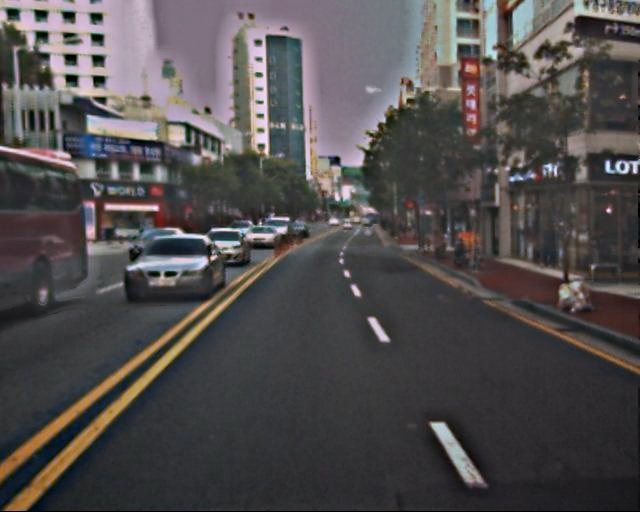person: (538, 220, 560, 270)
